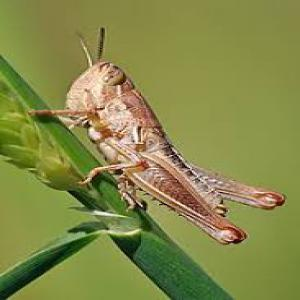locust: (47, 29, 299, 246)
